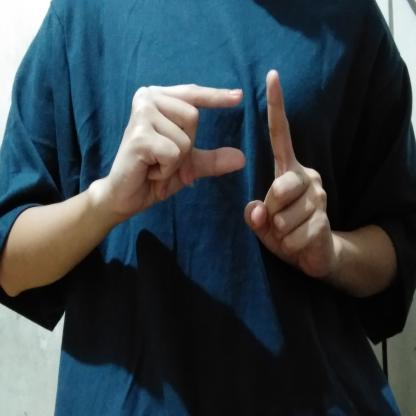daughter: (100, 63, 340, 288)
